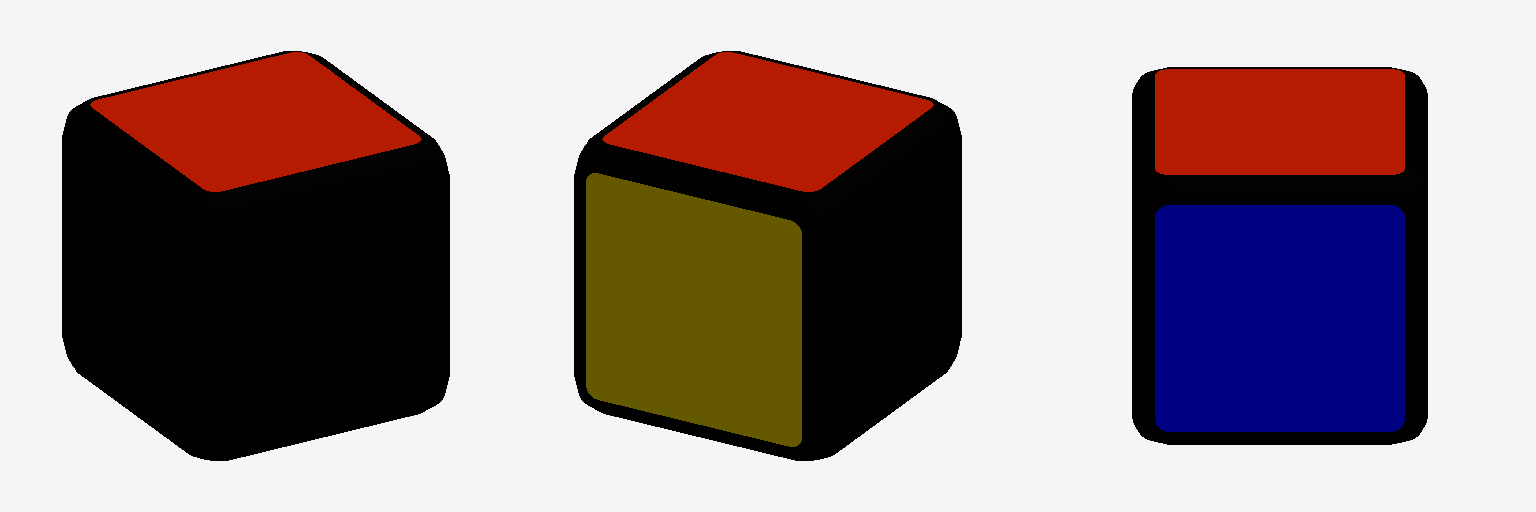
The model's file is corner_boy.obj.
3 renders of one model, left to right at view 1: azimuth 30°, elevation 25°; view 2: azimuth 150°, elevation 25°; view 3: azimuth 270°, elevation 25°, orthographic.
Visible parts, largest first — view 1: Cube; view 2: Cube; view 3: Cube.
Boxes of the visible parts, x1=… form: Cube: x1=62, y1=51, x2=449, y2=460; Cube: x1=574, y1=51, x2=961, y2=460; Cube: x1=1132, y1=67, x2=1427, y2=444.
Size of the model in its own units: 2 by 2 by 2.